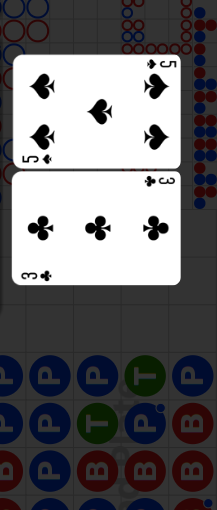3C: (20, 268, 54, 282)
5S: (145, 58, 177, 71)
